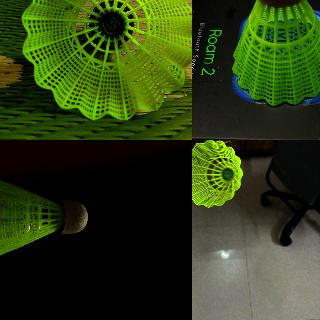shuttlecock: (20, 0, 191, 122), (232, 0, 319, 107), (0, 177, 87, 259), (192, 140, 243, 208)
